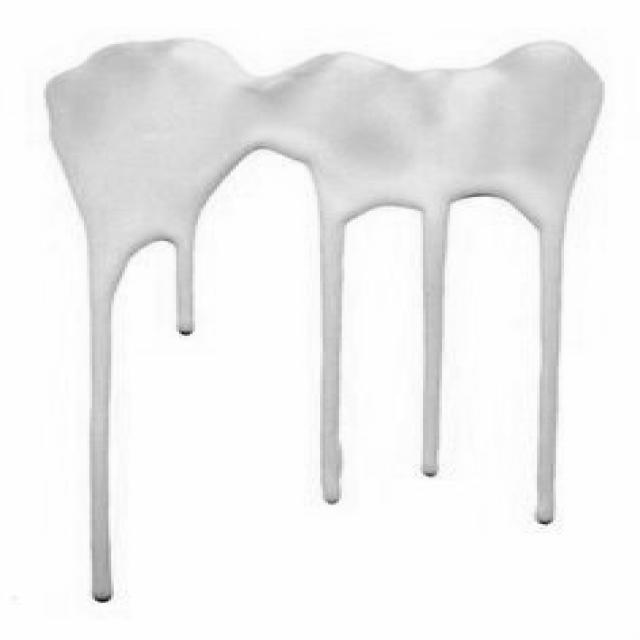paint drips: (71, 124, 574, 615)
